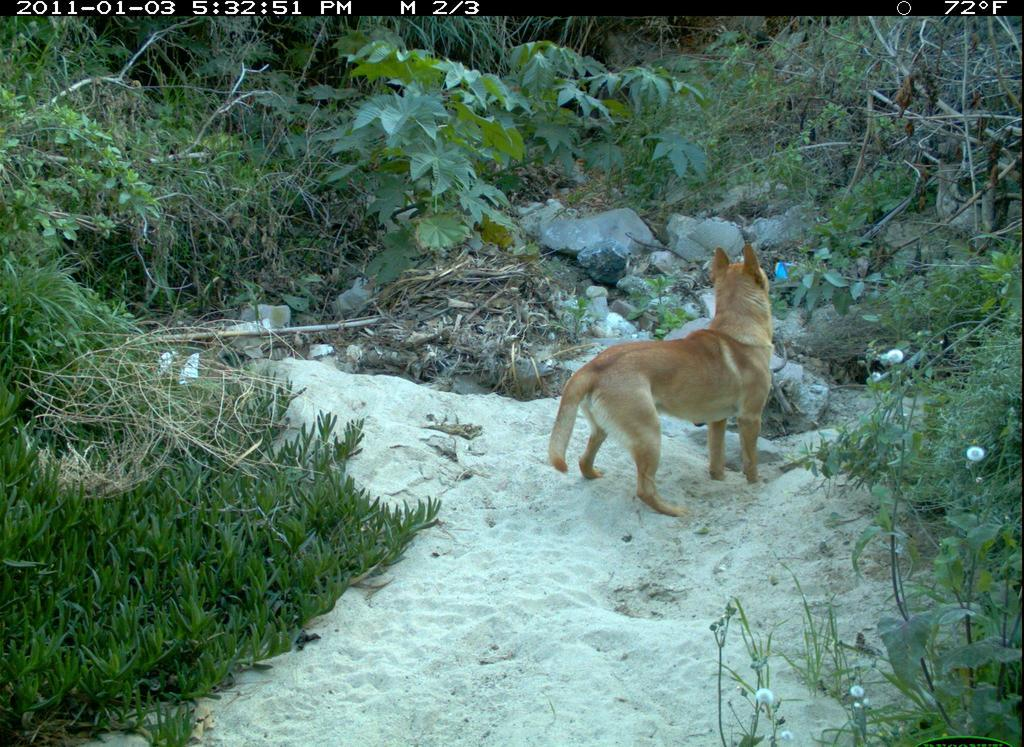dog: (539, 235, 781, 525)
